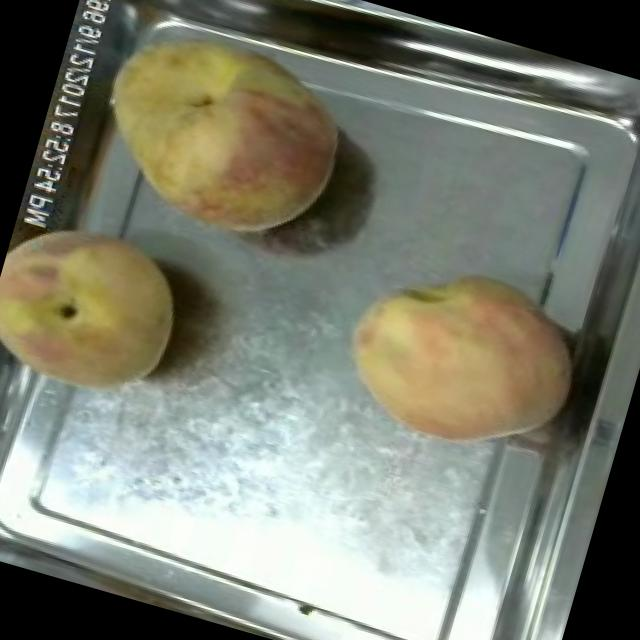Fruit: (66, 0, 374, 268), (315, 234, 604, 484), (0, 197, 206, 419)
